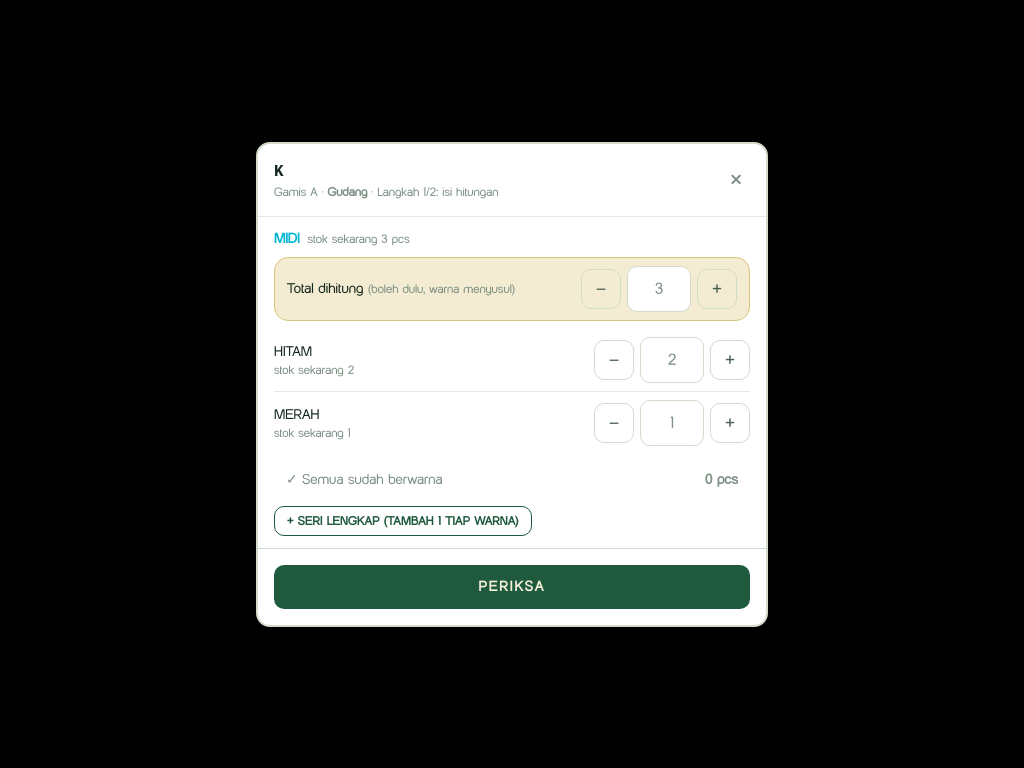
Test: ProductCountSheet › tombol − dan + mengubah angka per warna
The width and height of the screenshot is (1024, 768).
Type "5" into the number field named "HITAM, ukuran Midi" at (672, 360), box x1=640 y1=336 x2=704 y2=382
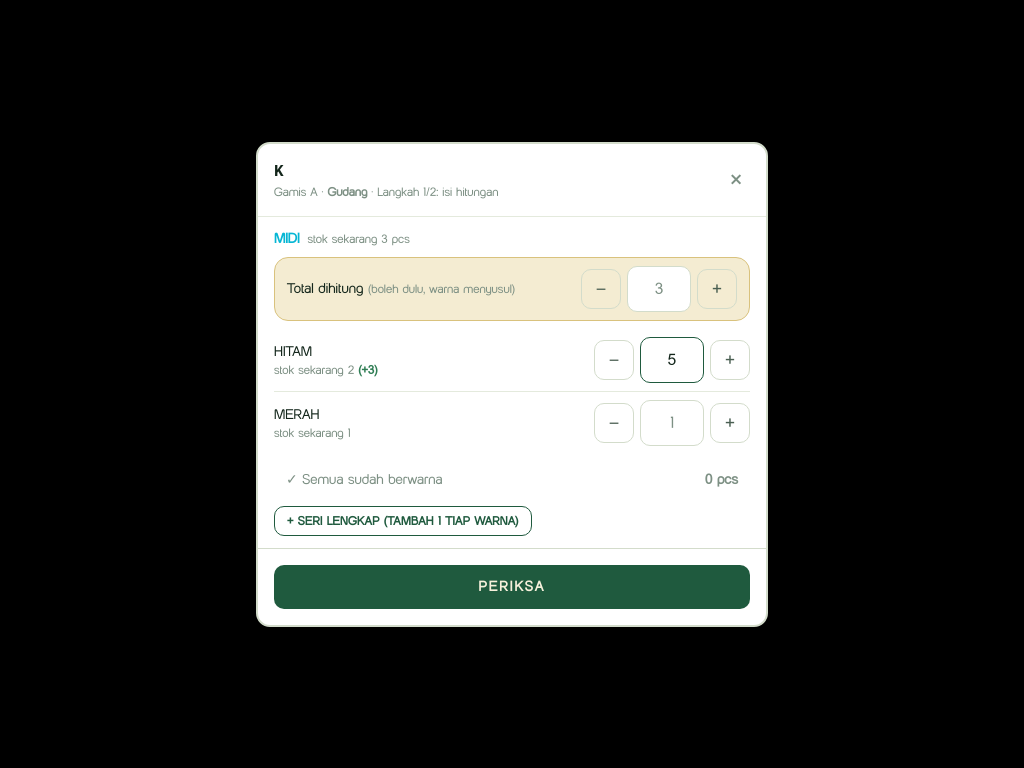
Click the button named "Tambah HITAM, ukuran Midi" at (730, 360), box x1=710 y1=340 x2=750 y2=380
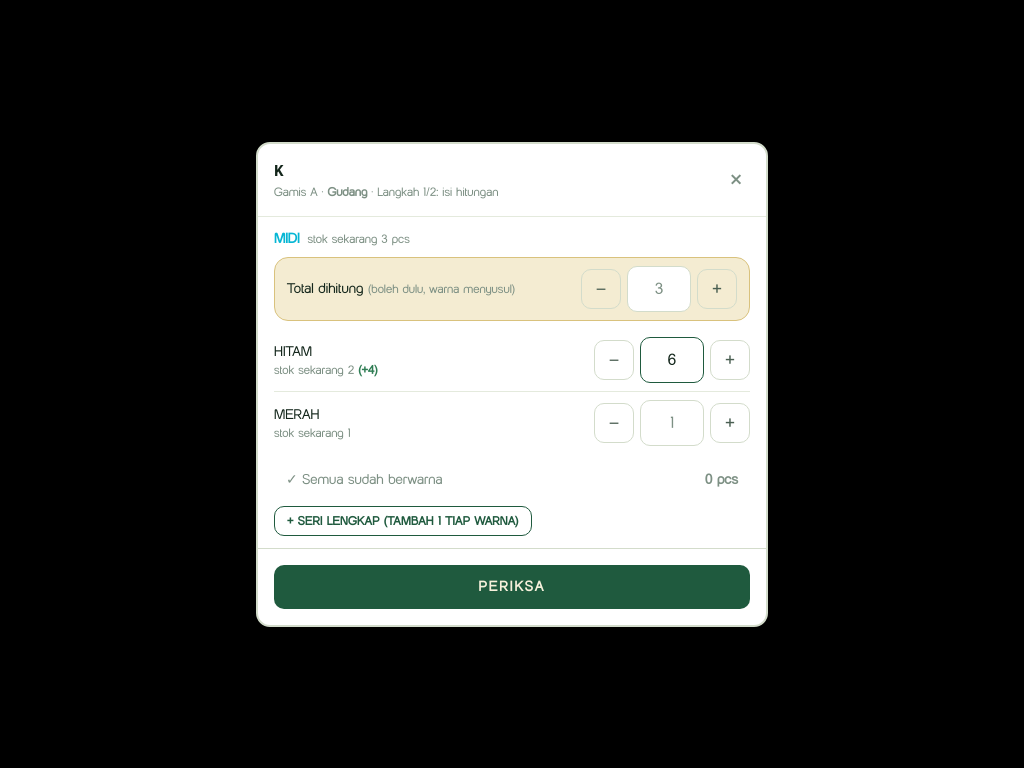
Check: the number field named "HITAM, ukuran Midi" holds "6", box x1=640 y1=336 x2=704 y2=382
Click the button named "Kurangi HITAM, ukuran Midi" at (614, 360), box x1=594 y1=340 x2=634 y2=380
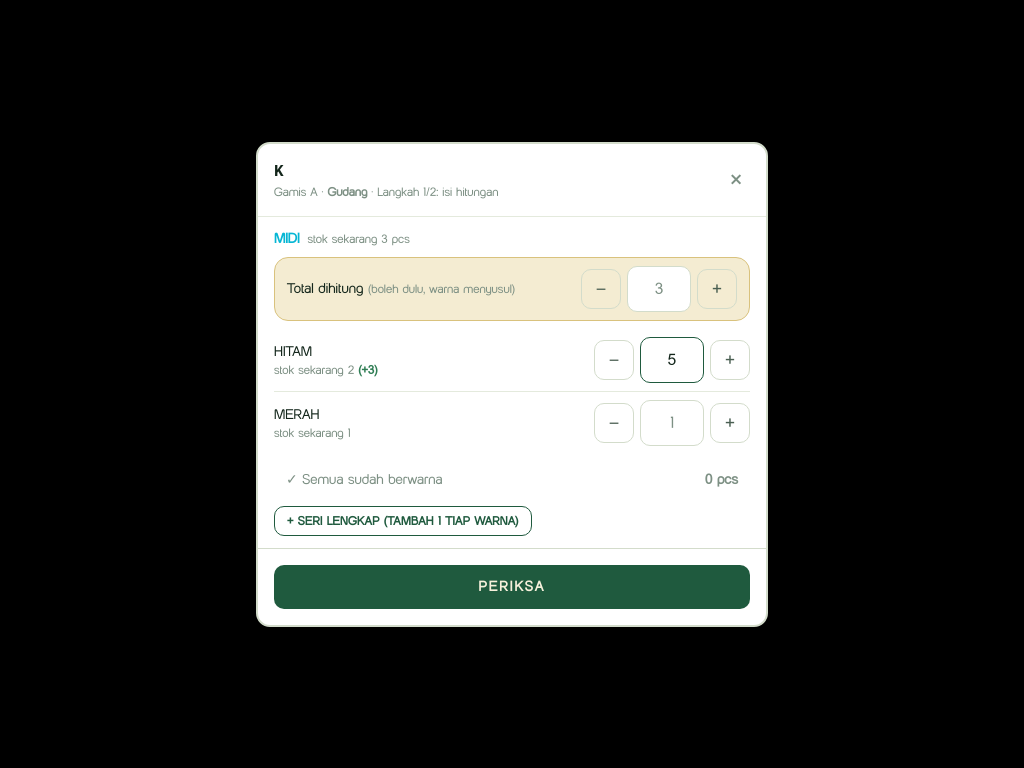
Click the button named "Kurangi HITAM, ukuran Midi" at (614, 360), box x1=594 y1=340 x2=634 y2=380
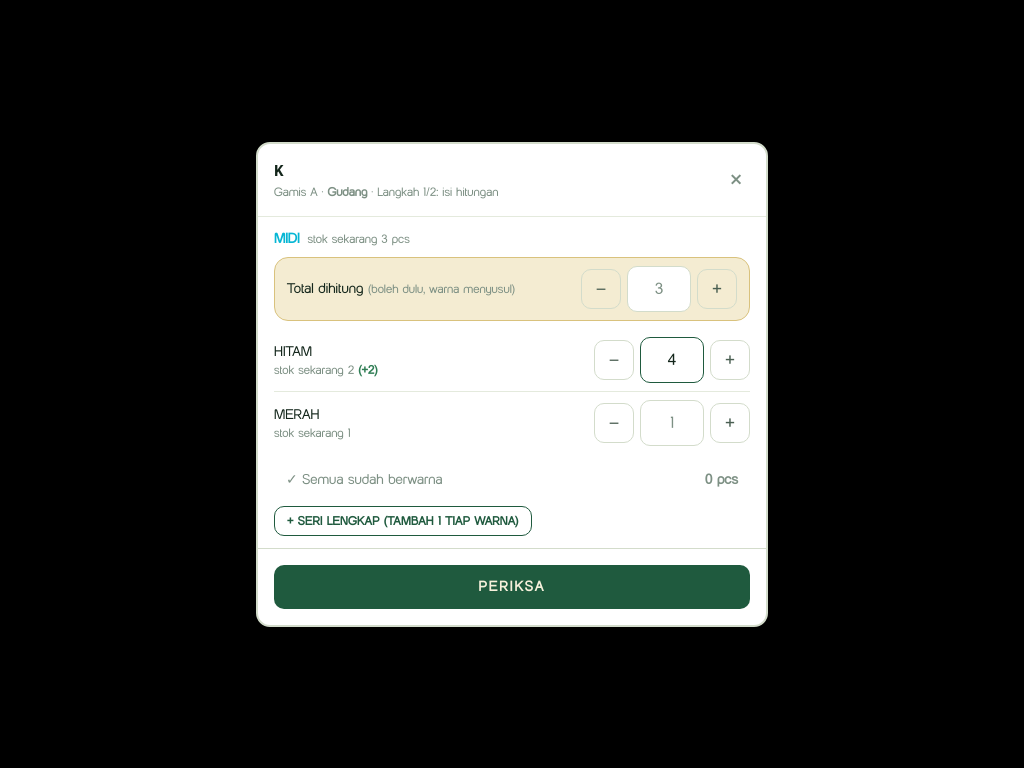
Check: the number field named "HITAM, ukuran Midi" holds "4", box x1=640 y1=336 x2=704 y2=382
